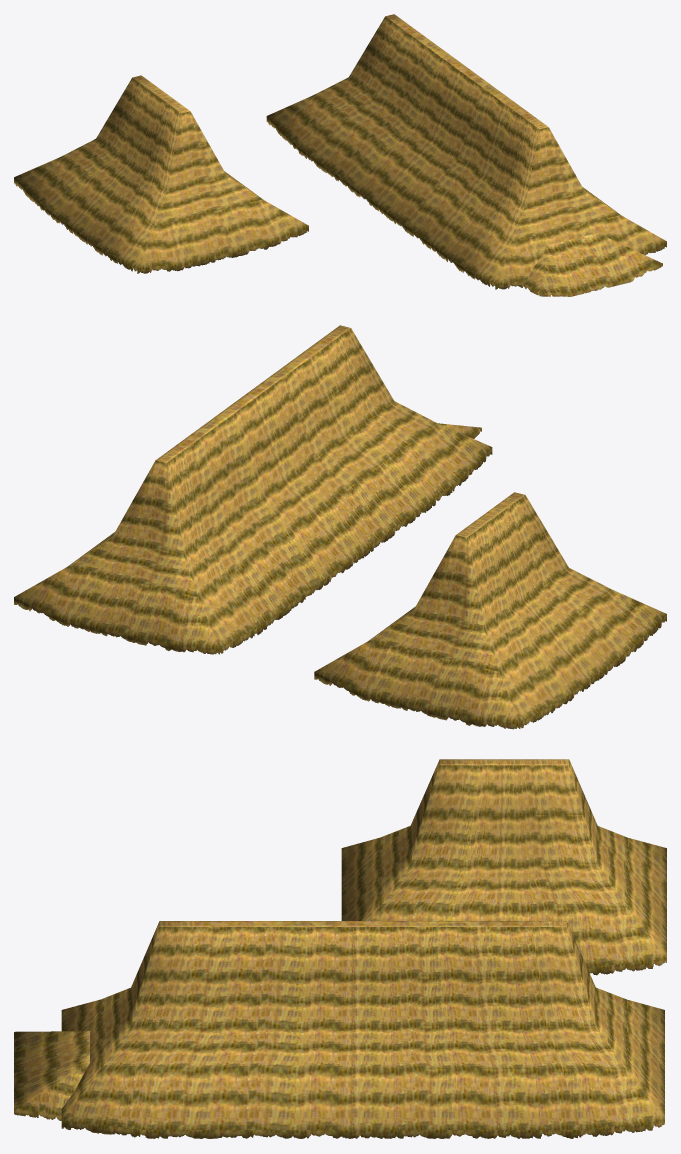
Rendered from roof_arsenal.dae.
3 renders of one model, top to bottom at view 1: azimuth 30°, elevation 25°; view 2: azimuth 150°, elevation 25°; view 3: azimuth 270°, elevation 25°, orthographic. The views are drawn at different scales.
Visible parts, largest first — view 1: arsenal.001; view 2: arsenal.001; view 3: arsenal.001.
Part boxes in pixels (left/top/right/bottom): arsenal.001: left=14, top=14, right=666, bottom=296; arsenal.001: left=14, top=325, right=666, bottom=729; arsenal.001: left=14, top=759, right=666, bottom=1138.
Size of the model in its own units: 24.32 by 24.6 by 6.69.
